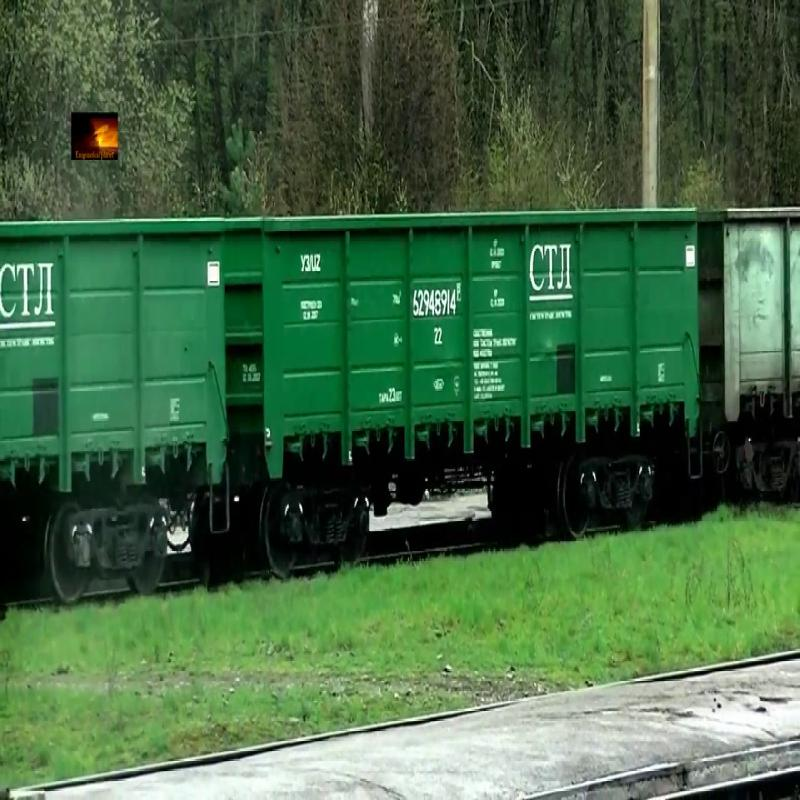train: (228, 214, 702, 483), (1, 221, 228, 517), (702, 204, 799, 421)
